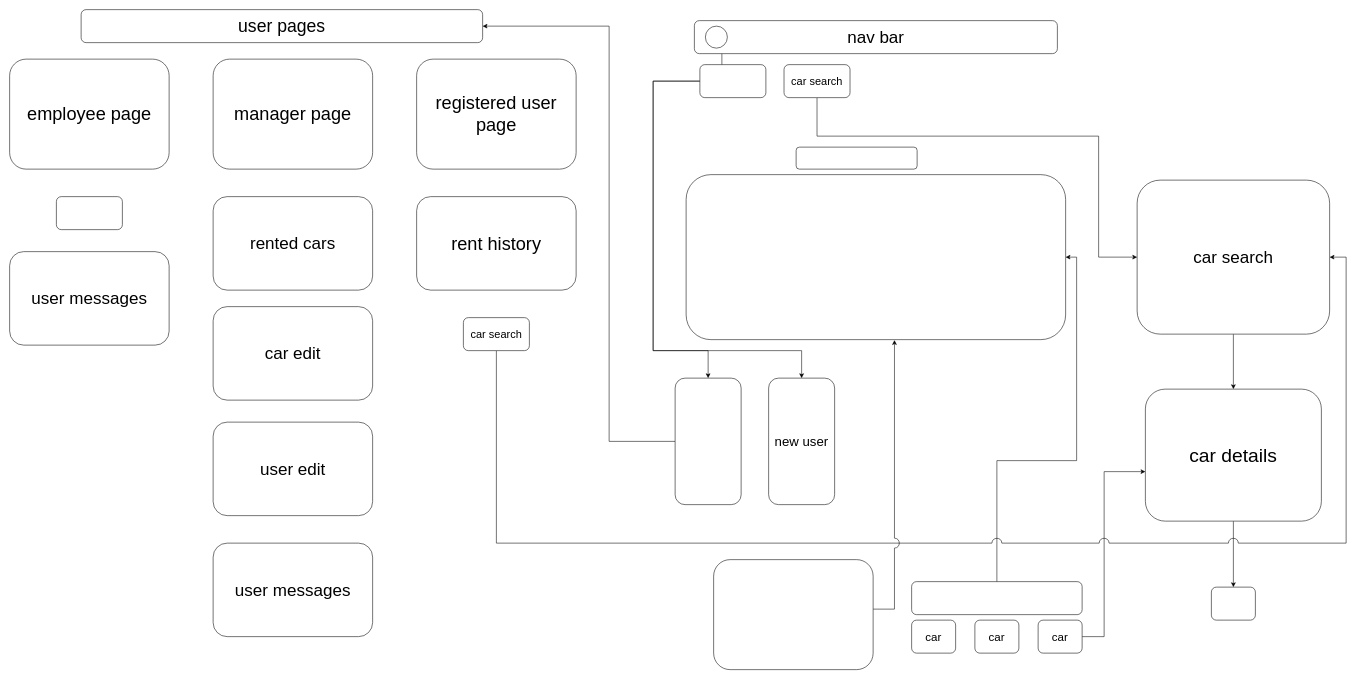
Image size: 1360x679. Some labels were removed from this diagram. Each missing label, with the centre of its shape:
car models cycle: pixel 996 598
contact page: pixel 793 614
home page: pixel 856 158
login (registered user): pixel 708 441
rent car: pixel 1233 603
return car: pixel 89 213
user cared/sign in: pixel 732 81
